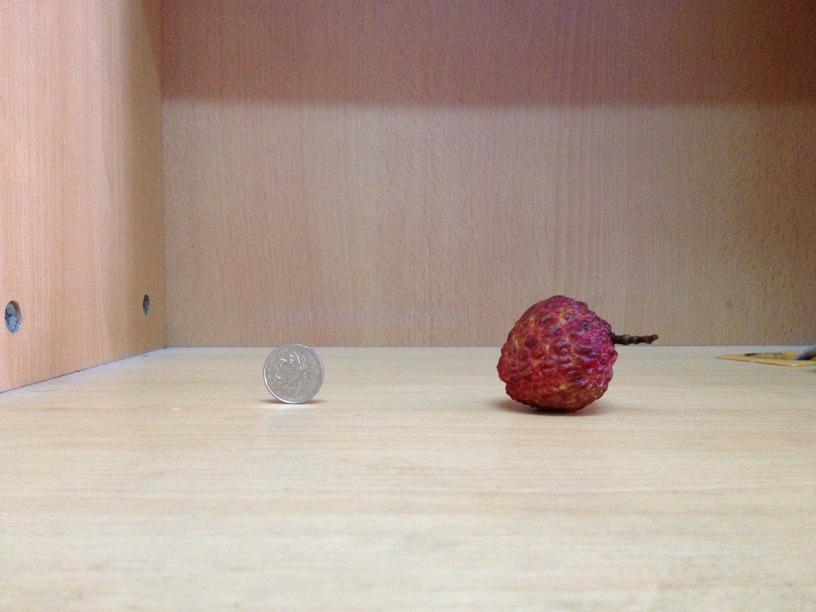coin: (263, 340, 324, 404)
litchi: (495, 292, 616, 413)
